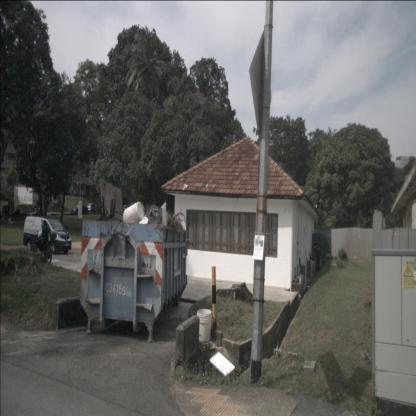human-pedestrian-adult: (42, 221, 50, 262), (314, 243, 322, 271), (312, 245, 320, 272)
vehicle-car: (23, 215, 72, 255), (71, 203, 88, 216), (86, 202, 101, 215)
vehicle-motorcycle: (31, 235, 56, 264)
